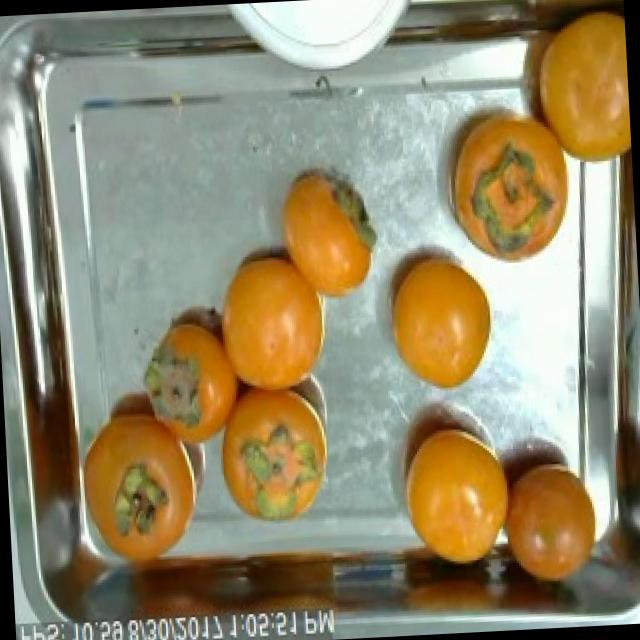Fruit: (205, 368, 348, 546), (387, 409, 524, 582), (503, 0, 633, 182), (369, 232, 506, 404), (204, 238, 336, 410), (488, 424, 609, 604), (264, 153, 394, 320), (438, 116, 570, 278), (133, 294, 255, 458)
